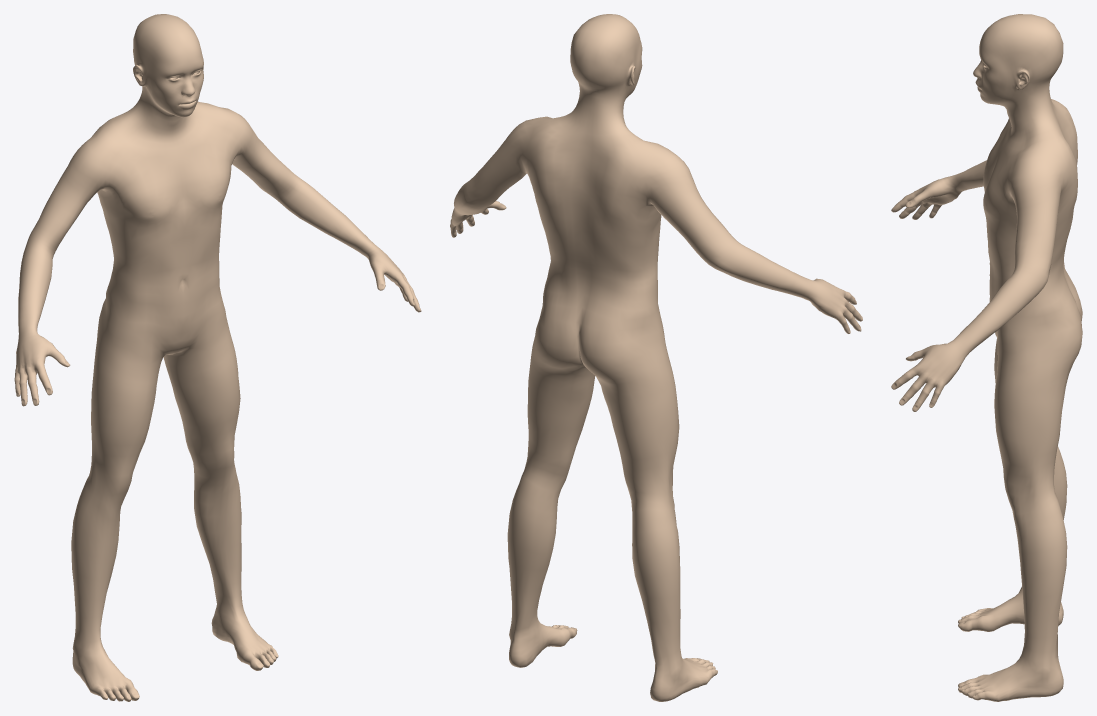
Rendered from male_Rectangle.glb.
3 renders of one model, left to right at view 1: azimuth 30°, elevation 25°; view 2: azimuth 150°, elevation 25°; view 3: azimuth 270°, elevation 25°, orthographic.
Visible parts, largest first — view 1: male_Rectangle; view 2: male_Rectangle; view 3: male_Rectangle.
Part boxes in pixels (x1=…): male_Rectangle: x1=14, y1=14, x2=421, y2=701; male_Rectangle: x1=450, y1=14, x2=862, y2=701; male_Rectangle: x1=891, y1=14, x2=1082, y2=701.
Size of the model in its own units: 1.11 by 1.73 by 0.466.
